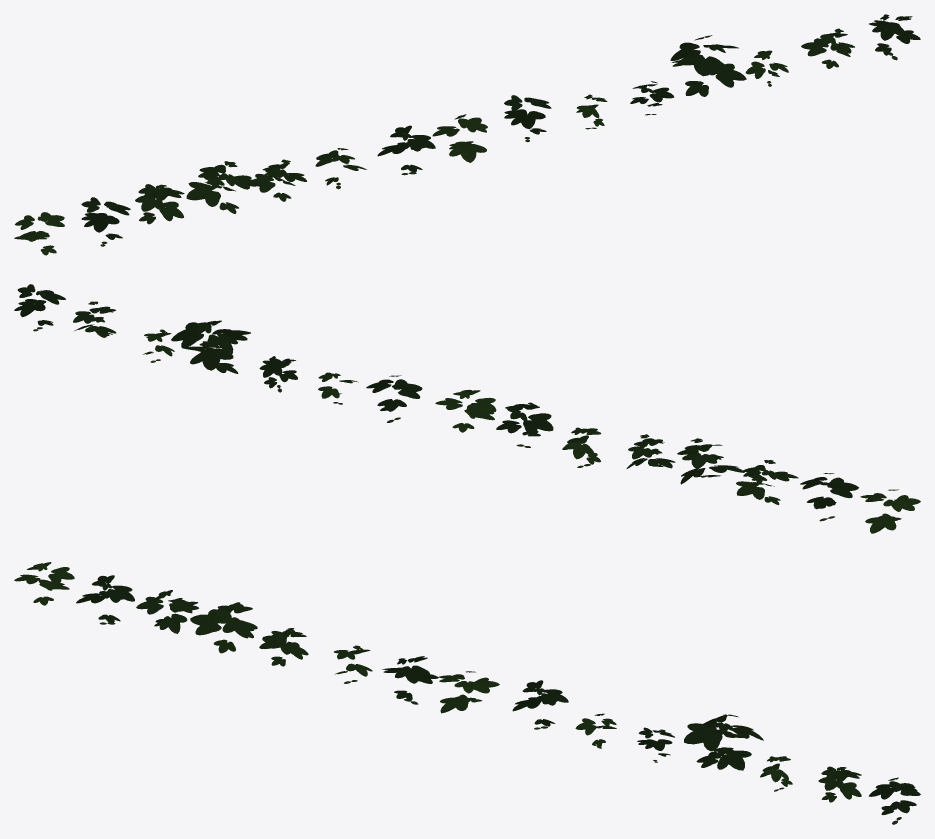
Rendered from ROW_05_SEG2_foliage.dae.
3 views of the same model, one above another, from view 1: azimuth 30°, elevation 25°; view 2: azimuth 150°, elevation 25°; view 3: azimuth 330°, elevation 25° (orthographic).
Visible parts, largest first — view 1: ROW_05_SEG2_foliage; view 2: ROW_05_SEG2_foliage; view 3: ROW_05_SEG2_foliage.
Boxes of the visible parts, x1,y1,x2,y2 form: ROW_05_SEG2_foliage: (14, 14, 920, 255); ROW_05_SEG2_foliage: (14, 284, 920, 533); ROW_05_SEG2_foliage: (14, 562, 920, 824).
Size of the model in its own units: 4.46 by 0.3493 by 0.2717.
